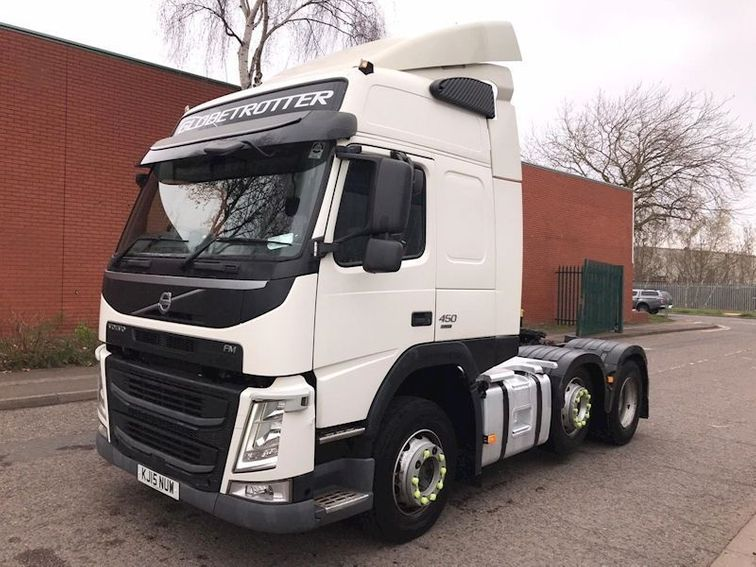Car: (632, 288, 671, 314)
Semi: (93, 20, 647, 544)
